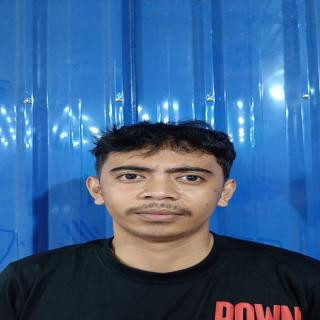Marah: (97, 141, 226, 245)
